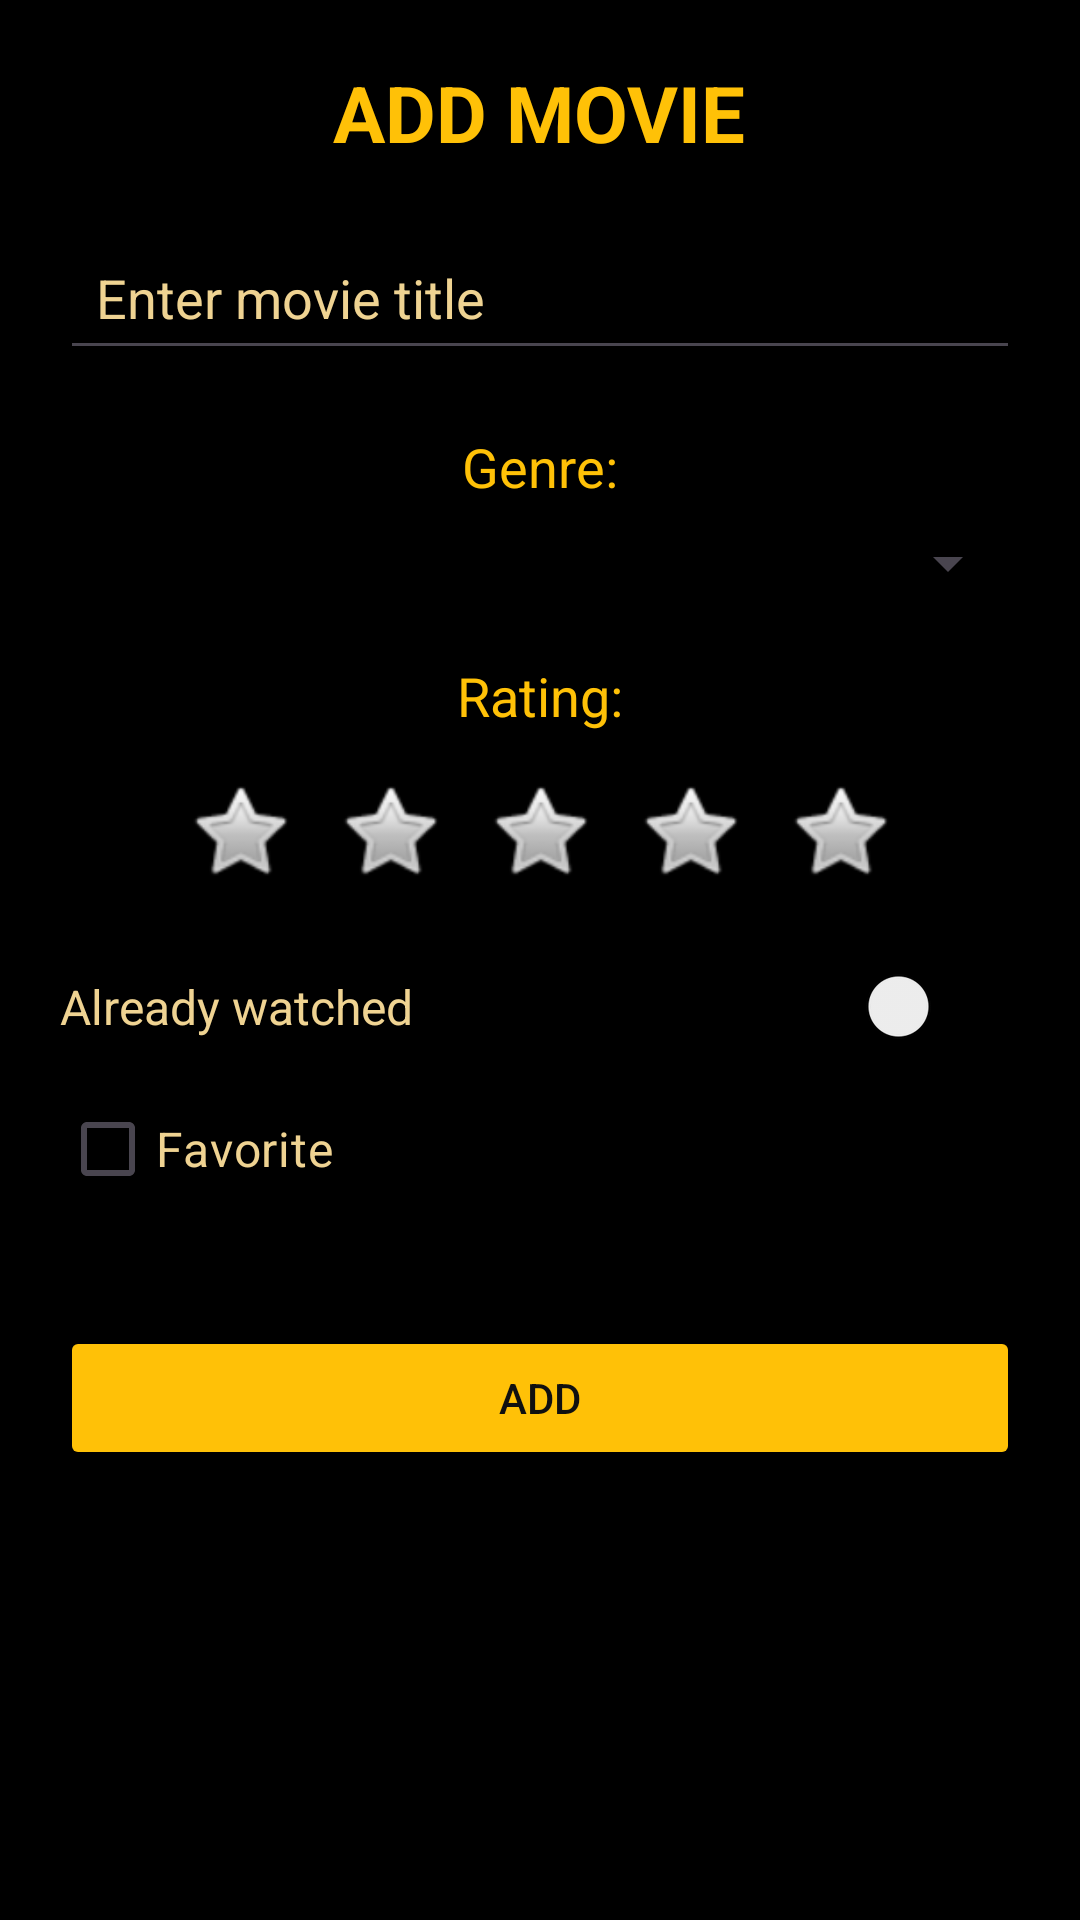

Named icons in this screenshot (1080px x 1920px) and their bounding boxes, (x1, y1, x2, y2):
star off: (195, 787, 287, 874), (345, 787, 437, 874), (495, 787, 587, 874), (645, 787, 737, 874), (795, 787, 887, 874)
